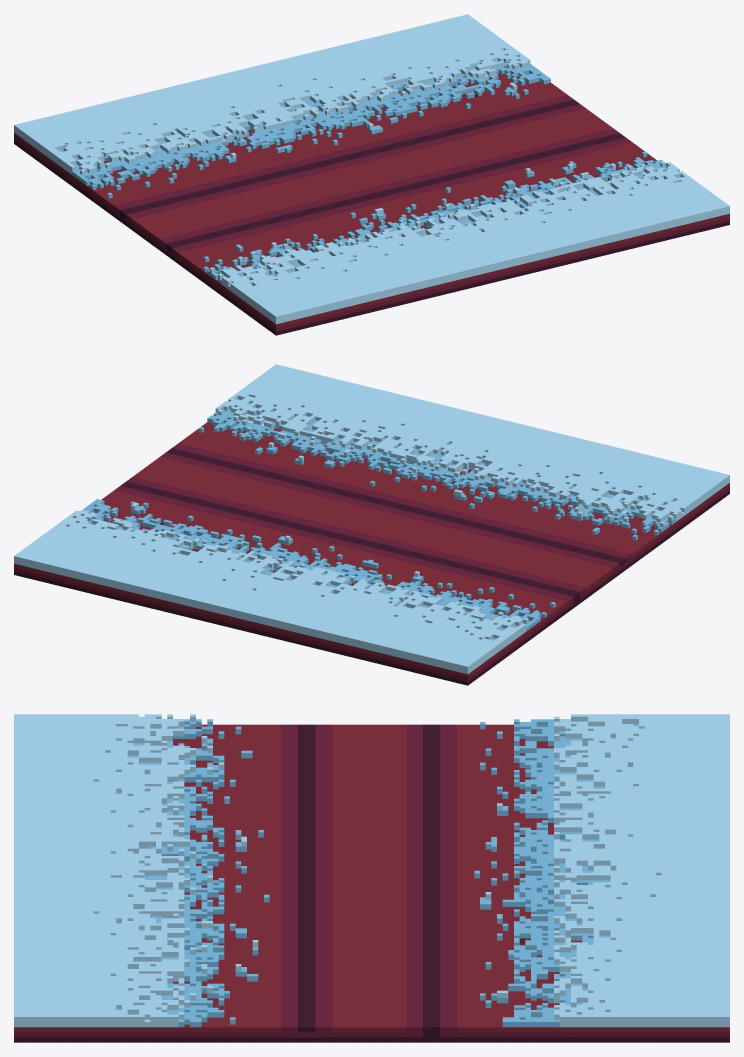
The model's file is bigsnowscape_02-0.obj.
3 renders of one model, top to bottom at view 1: azimuth 30°, elevation 25°; view 2: azimuth 150°, elevation 25°; view 3: azimuth 270°, elevation 25°, orthographic. The views are drawn at different scales.
Parts seen in each view (by area): view 1: bigsnowscape_02-0; view 2: bigsnowscape_02-0; view 3: bigsnowscape_02-0.
Boxes of the visible parts, x1,y1,x2,y2 form: bigsnowscape_02-0: (14, 14, 729, 335); bigsnowscape_02-0: (14, 364, 729, 685); bigsnowscape_02-0: (14, 714, 729, 1042).
Bounding box in the file's own units: 126 × 5 × 126.
Materials: 1 (1 with a texture image).
